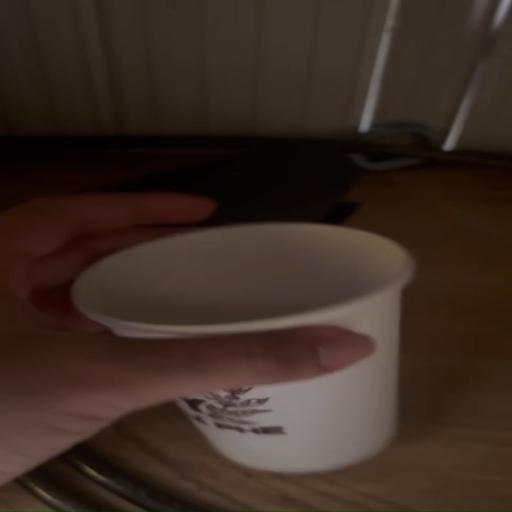ly_giay: (71, 222, 414, 472)
